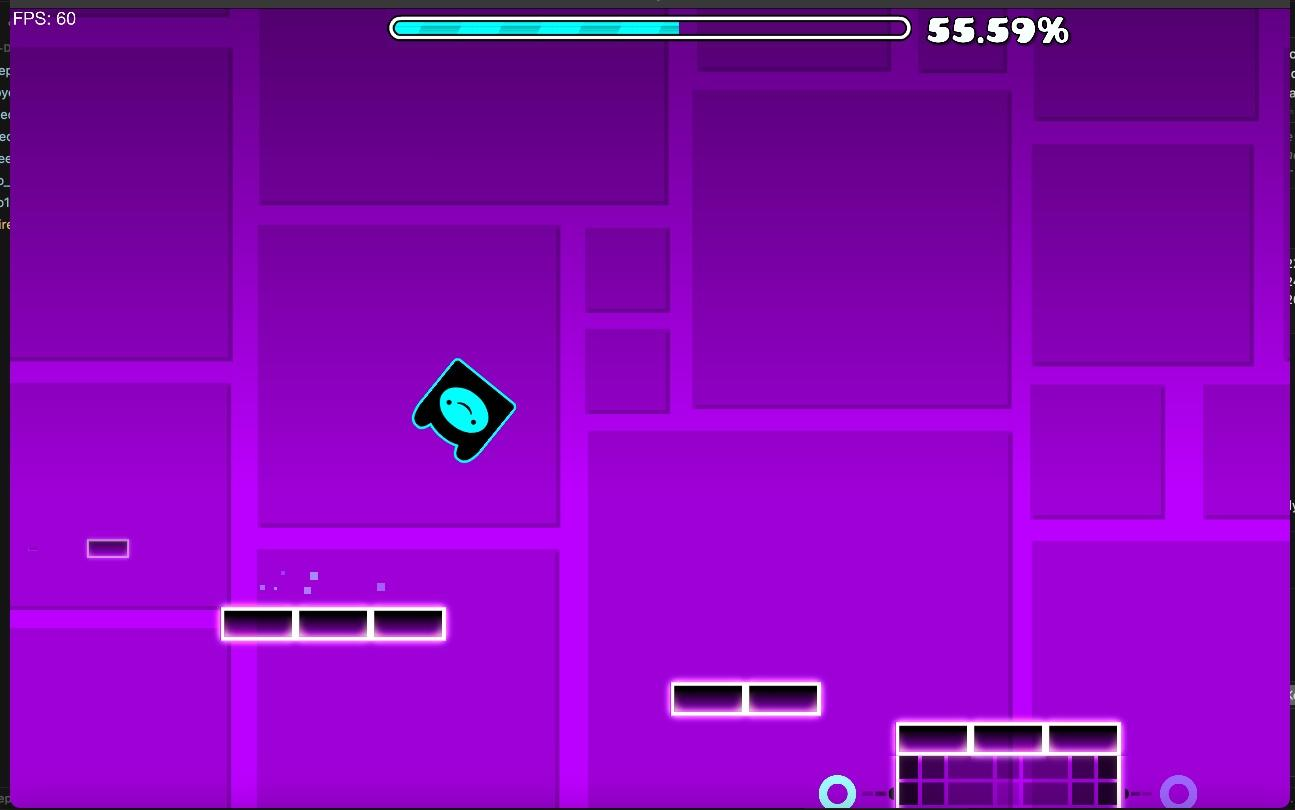block: (897, 754, 1118, 810)
platform: (219, 605, 448, 642), (896, 721, 1120, 754), (669, 681, 821, 716), (87, 539, 128, 558)
player: (412, 358, 515, 462)
